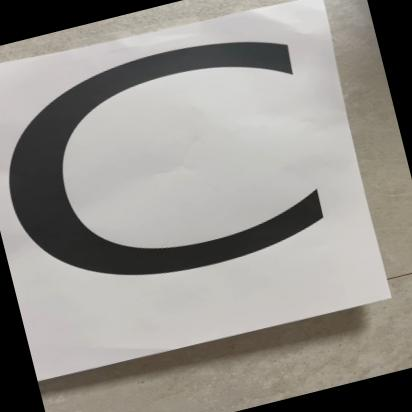seat: (0, 0, 375, 382)
